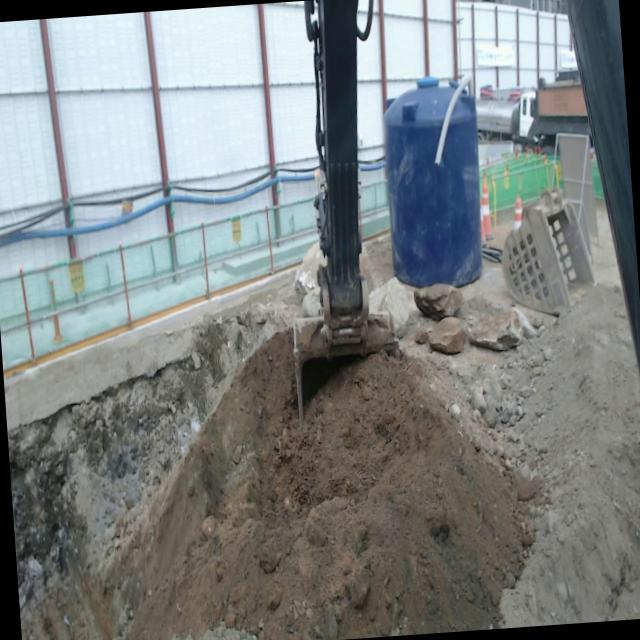stone: (292, 242, 326, 316), (368, 277, 410, 335), (466, 310, 520, 350), (414, 283, 462, 320), (428, 317, 466, 354), (359, 241, 373, 292)
white-sand: (7, 285, 640, 640)
